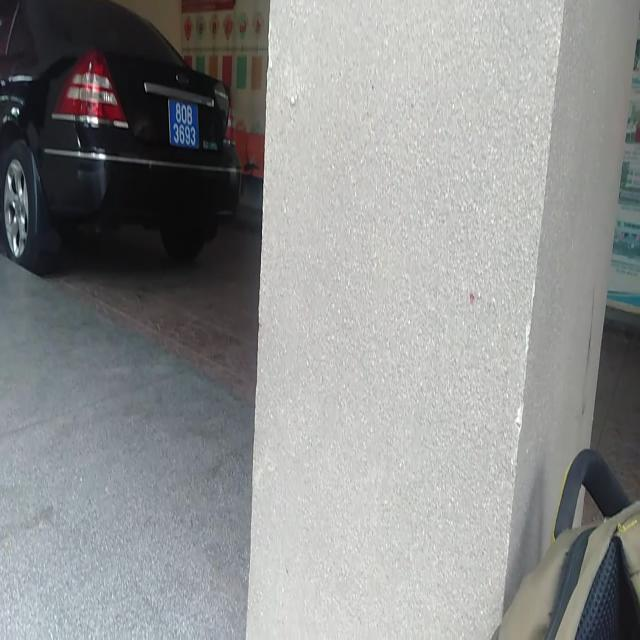bien_xanh: (168, 89, 203, 156)
